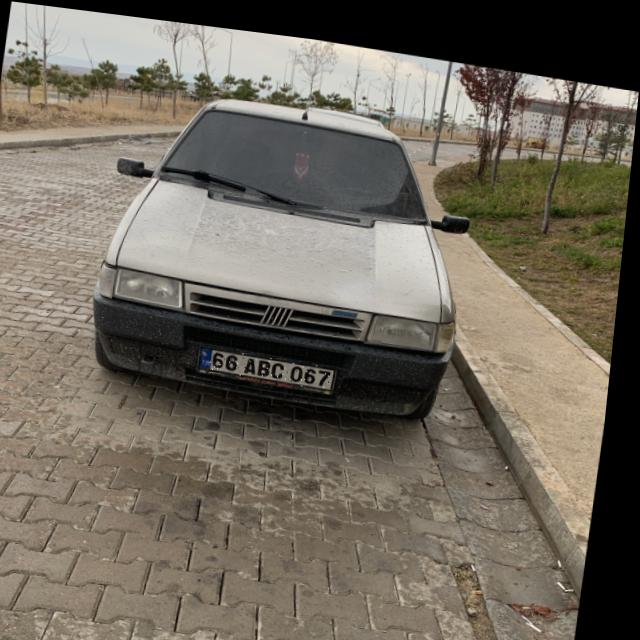license_plate: (204, 340, 343, 382)
